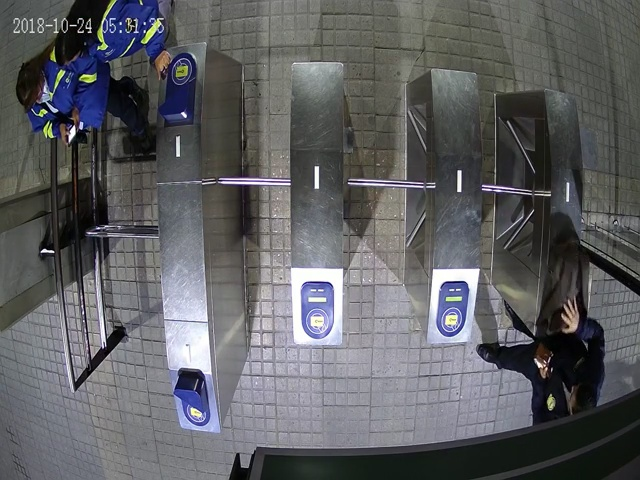Chaleco_azul: (15, 43, 148, 141), (55, 1, 171, 78)
